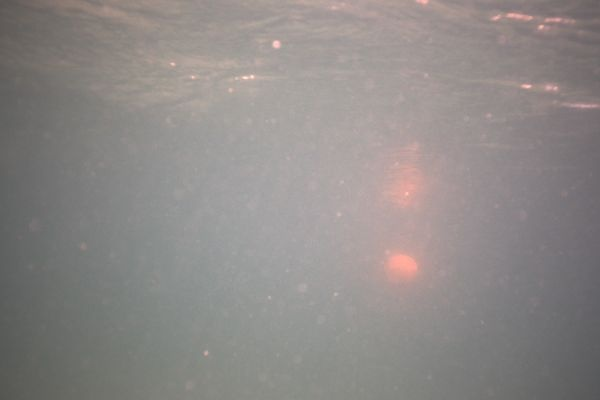buoy: (385, 256, 417, 288)
